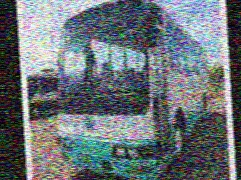bus: (46, 0, 215, 180)
